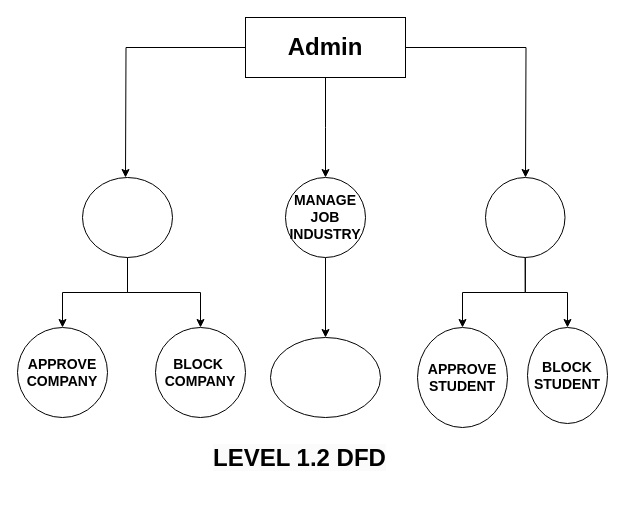
This 625x506 diagram has some shape labels left out. Here are the shapes that lost their labels. From the top down, the centre of each, then its label:
At (127,217): "MANAGE COMPANY".
At (524,217): "MANAGE STUDENTS".
At (325,377): "ADD/DELETE INDUSTRY".
